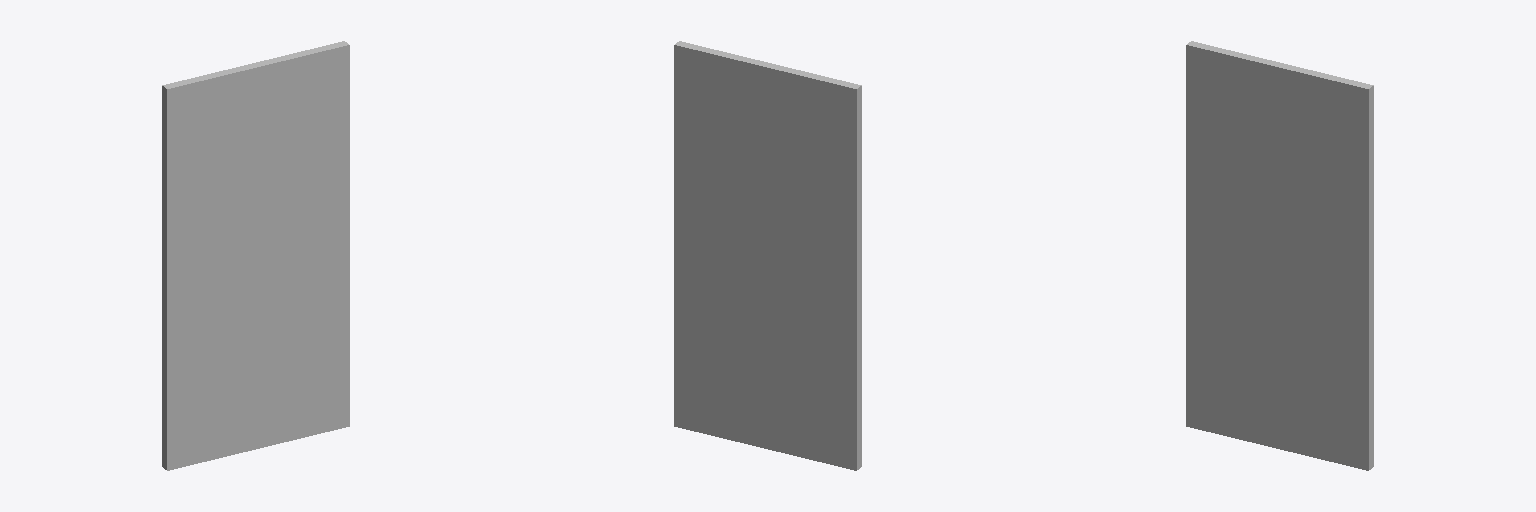
File: Wall4m.obj
3 views of the same model, side by side, from view 1: azimuth 30°, elevation 25°; view 2: azimuth 150°, elevation 25°; view 3: azimuth 330°, elevation 25° (orthographic).
Visible parts, largest first — view 1: Wall4m; view 2: Wall4m; view 3: Wall4m.
Boxes of the visible parts, box(x1,y1,x2,y2) form: Wall4m: box(162, 41, 349, 470); Wall4m: box(674, 41, 861, 470); Wall4m: box(1186, 41, 1373, 470).
Bounding box in the file's own units: 4 × 8 × 0.2.